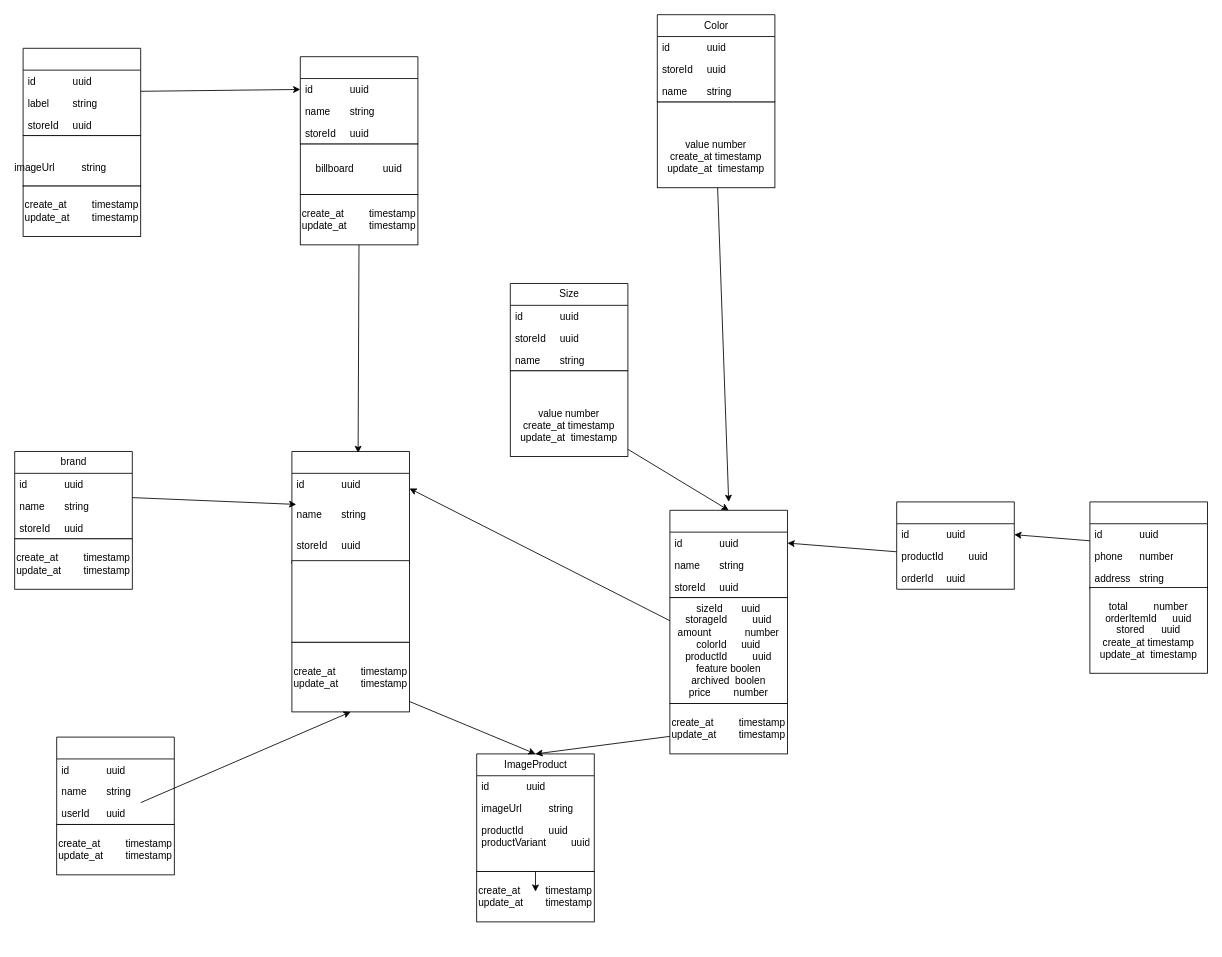
The diagram is 1222 pixels wide and 957 high, and some of its shapes have lost their labels. Here are the shapes that lost their labels. From the top down, the box of each, then its label:
(22, 47, 141, 136): BillBoard
(299, 56, 418, 144): Category
(291, 451, 410, 564): product
(669, 509, 788, 598): ProductVariant
(896, 501, 1014, 589): order Item
(1089, 501, 1208, 589): order
(291, 560, 410, 642): brandId uuid categoryId uuid description string feature boolen archived boolen
(56, 736, 174, 824): store
